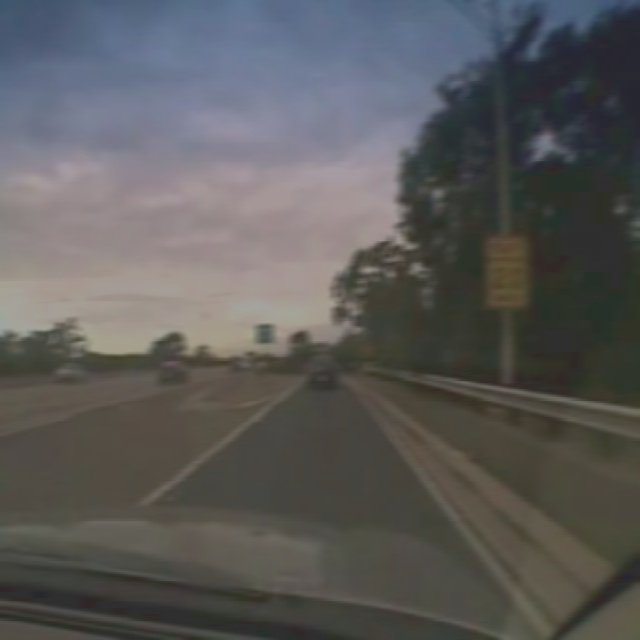rampSpeedAdvisory20: (486, 234, 531, 308)
